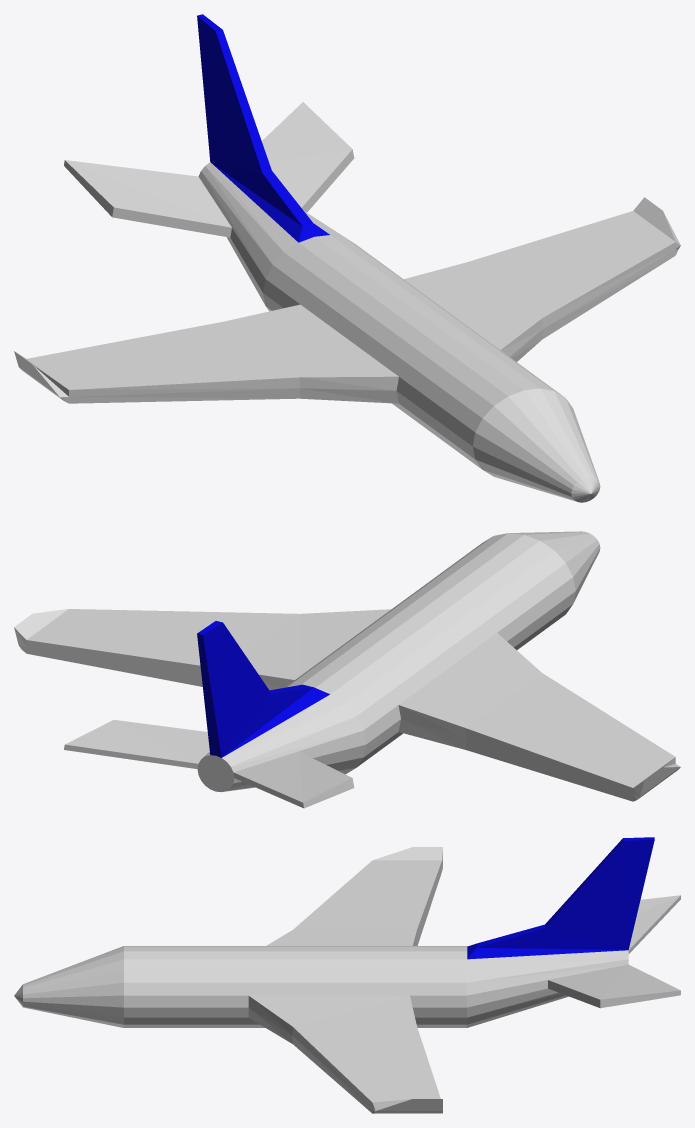
The model's file is ModelPlane.fbx.
The picture shows the model from 3 angles, top to bottom: view 1: azimuth 30°, elevation 25°; view 2: azimuth 150°, elevation 25°; view 3: azimuth 270°, elevation 25°; orthographic projection. The views are drawn at different scales.
Parts seen in each view (by area): view 1: Plane; view 2: Plane; view 3: Plane.
Part boxes in pixels (<box>): Plane: <box>14,14,680,502</box>; Plane: <box>14,531,680,808</box>; Plane: <box>14,837,680,1113</box>.
Size of the model in its own units: 12.23 by 4.18 by 13.69.
